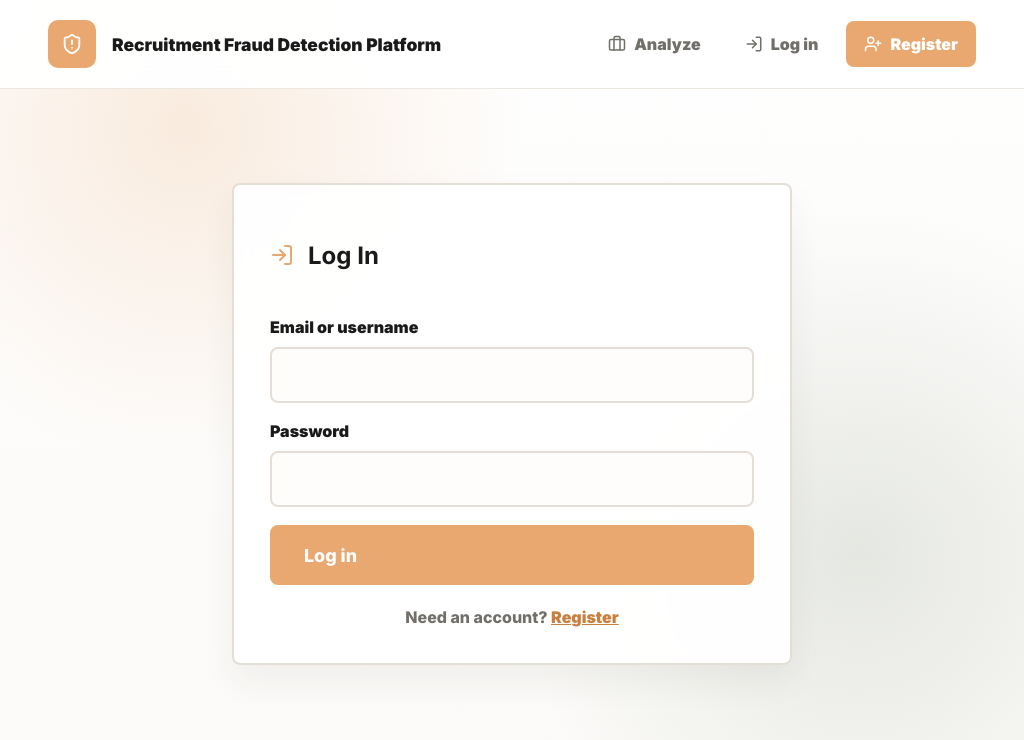
logs in and persists authentication before opening the analyser
Type "unit-user" into the field labelled "Email or username" at (512, 375), box [270,347,754,403]
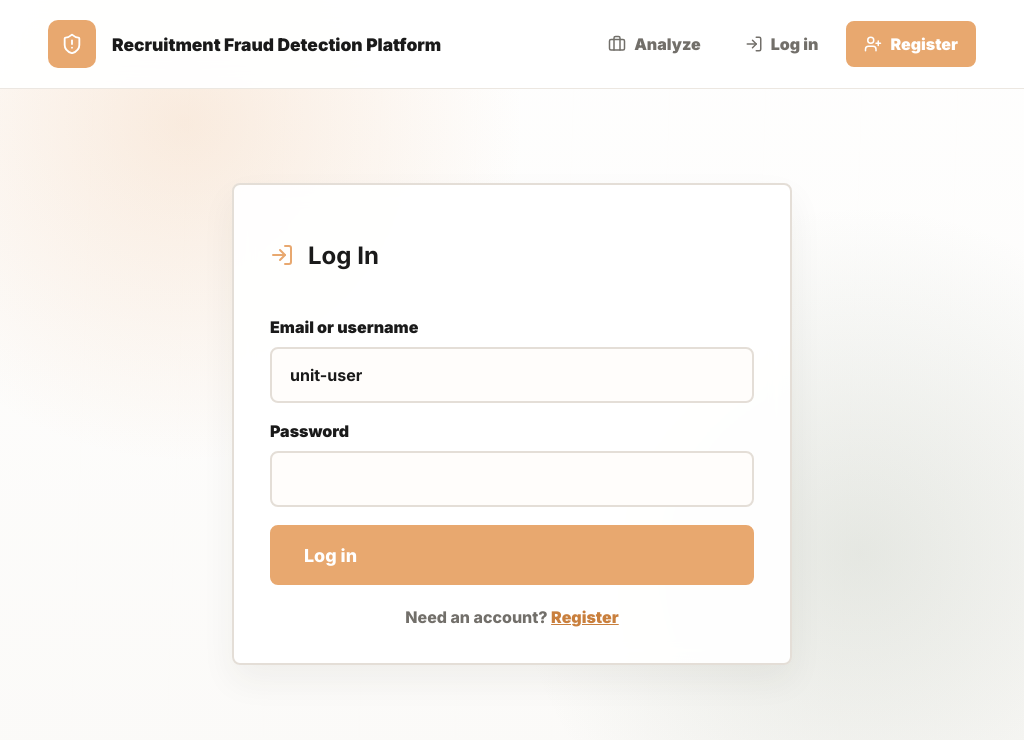
Type "Secure123" into the password field labelled "Password" at (512, 479), box [270,451,754,507]
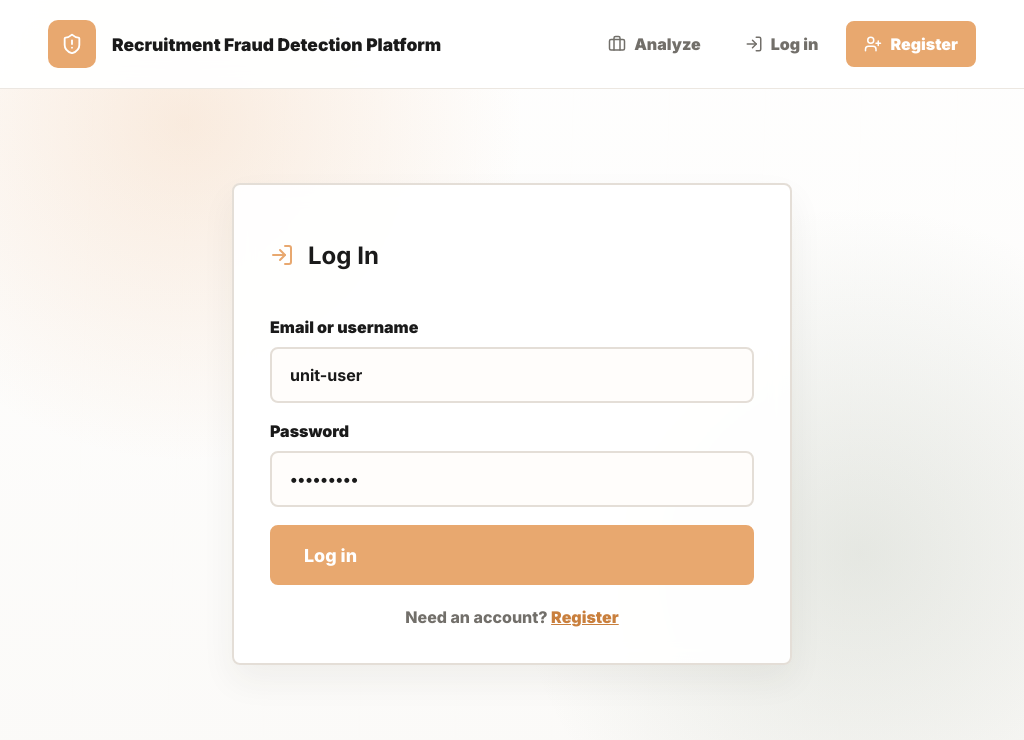
Click the button "Log in" at (331, 555), box [270,525,754,585]
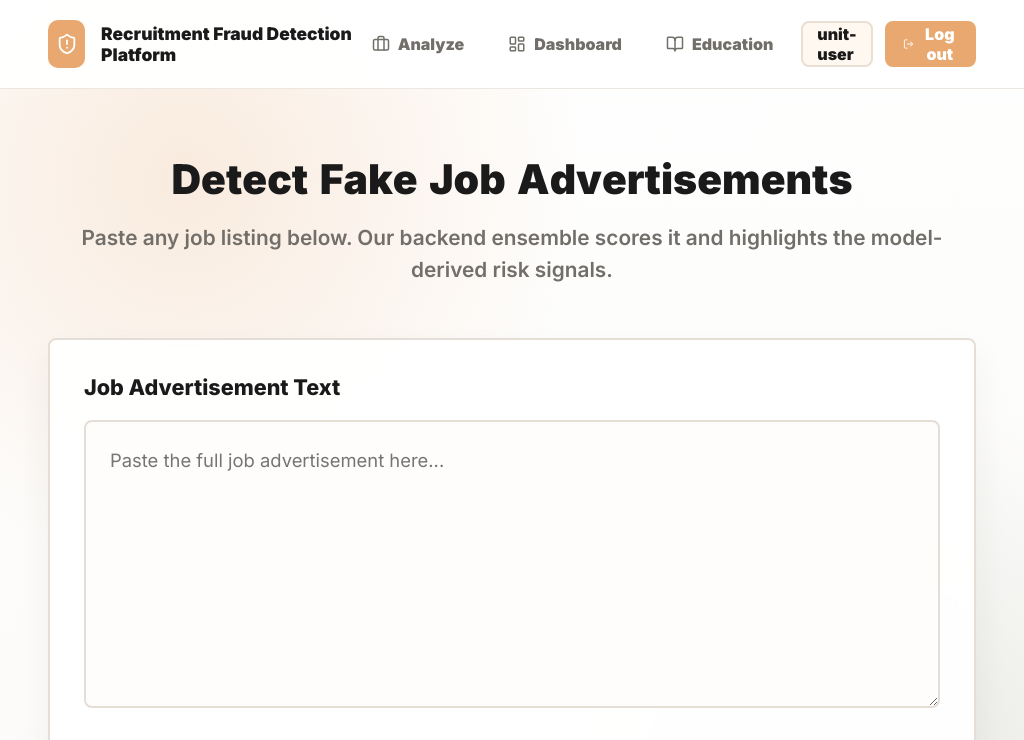
Check: the heading named "Detect Fake Job Advertisements" is shown, box [172,159,853,200]
